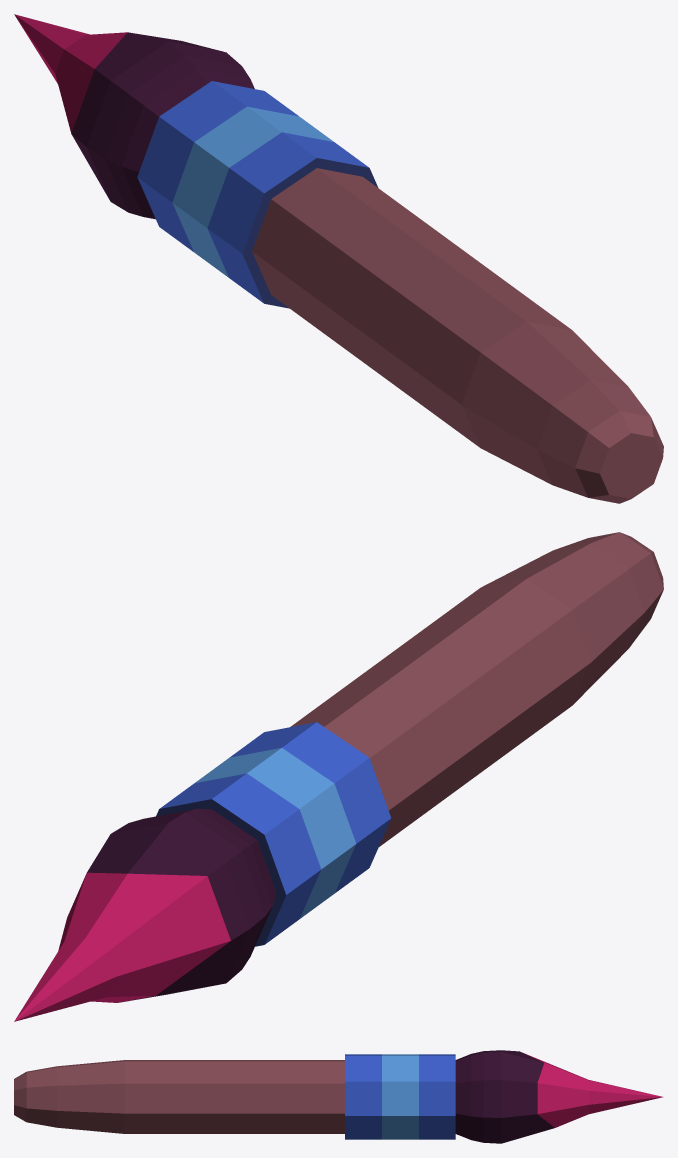
File: PaintBrush.fbx
3 views of the same model, one above another, from view 1: azimuth 30°, elevation 25°; view 2: azimuth 150°, elevation 25°; view 3: azimuth 270°, elevation 25° (orthographic). The views are drawn at different scales.
Parts seen in each view (by area): view 1: Cylinder.219; view 2: Cylinder.219; view 3: Cylinder.219.
Boxes of the visible parts, bbox=[...] form: Cylinder.219: bbox=[14, 14, 663, 503]; Cylinder.219: bbox=[14, 532, 663, 1021]; Cylinder.219: bbox=[14, 1050, 663, 1143].
Bounding box in the file's own units: 3.36 × 3.36 × 21.93.
